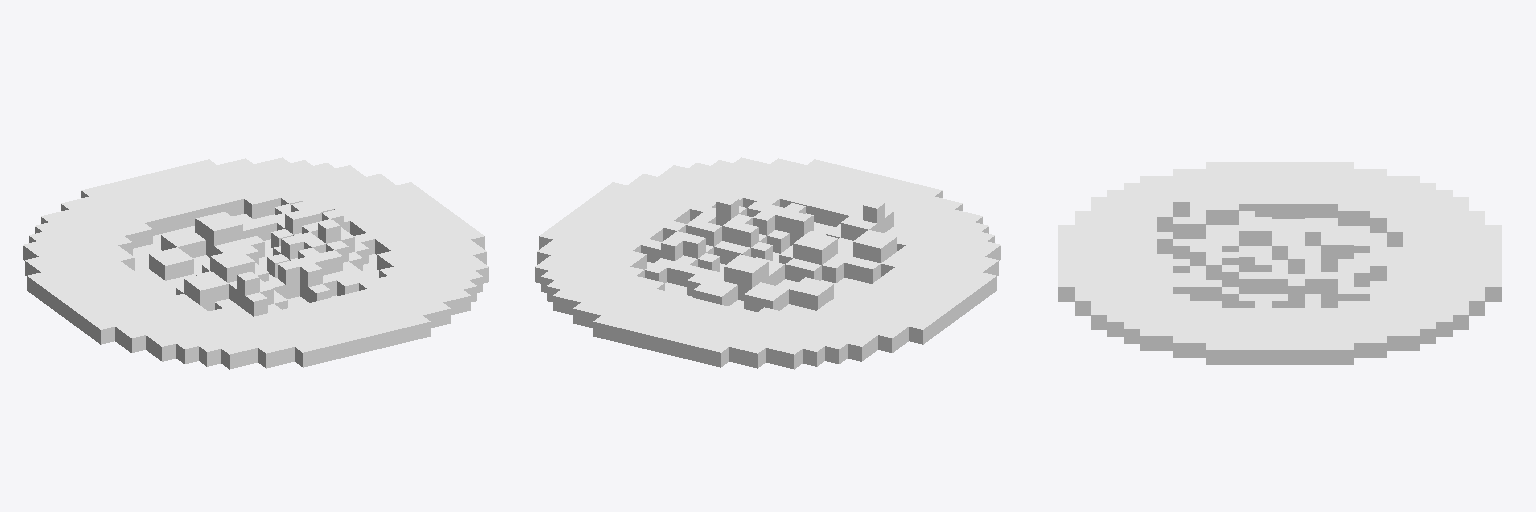
The model's file is Plate_With_Vegetables.obj.
3 views of the same model, side by side, from view 1: azimuth 30°, elevation 25°; view 2: azimuth 150°, elevation 25°; view 3: azimuth 270°, elevation 25° (orthographic).
Visible parts, largest first — view 1: object 1; view 2: object 1; view 3: object 1.
Boxes of the visible parts, x1=… form: object 1: x1=23, y1=157, x2=488, y2=369; object 1: x1=535, y1=157, x2=1000, y2=369; object 1: x1=1058, y1=162, x2=1501, y2=364.
Bounding box in the file's own units: 2.7 × 0.4 × 2.7.